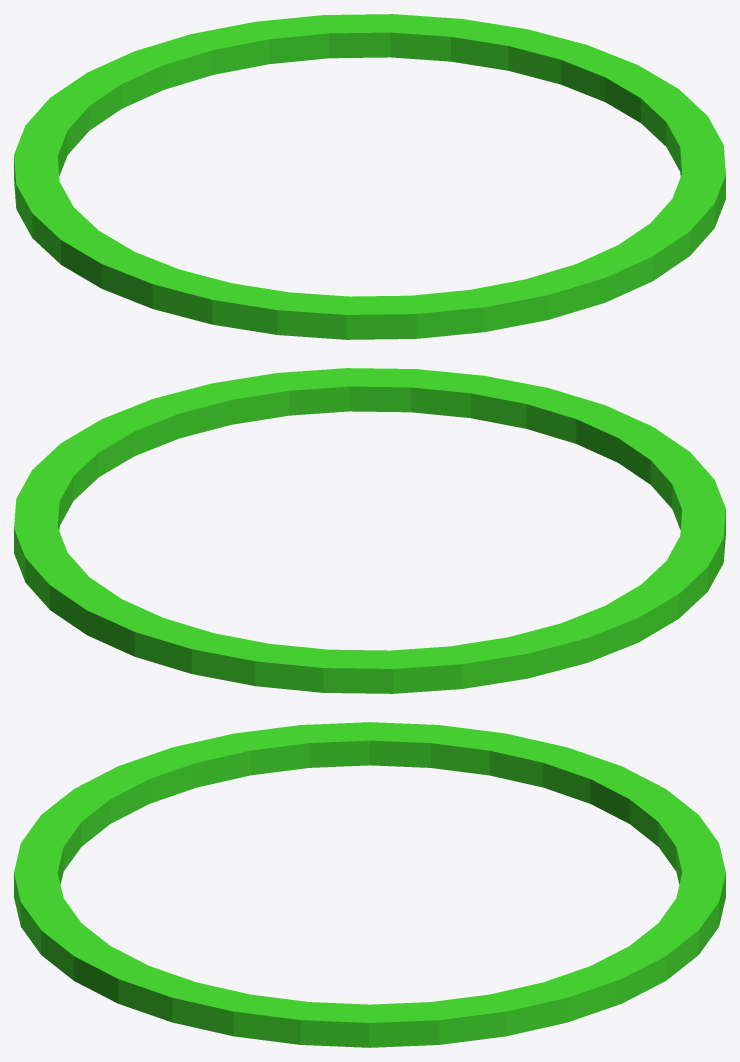
The model's file is SelectedBone.fbx.
3 renders of one model, top to bottom at view 1: azimuth 30°, elevation 25°; view 2: azimuth 150°, elevation 25°; view 3: azimuth 270°, elevation 25°, orthographic.
Visible parts, largest first — view 1: Окружность; view 2: Окружность; view 3: Окружность.
Boxes of the visible parts, <box> form: Окружность: <box>14,14,725,339</box>; Окружность: <box>14,368,725,693</box>; Окружность: <box>14,722,725,1047</box>.
Bounding box in the file's own units: 2600 × 100 × 2600.
